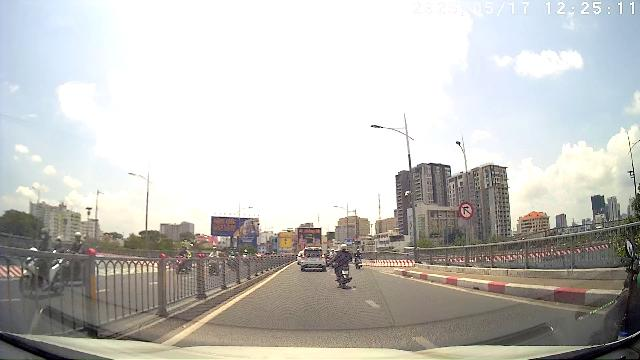123b-cam-re-phai: (458, 201, 474, 219)
